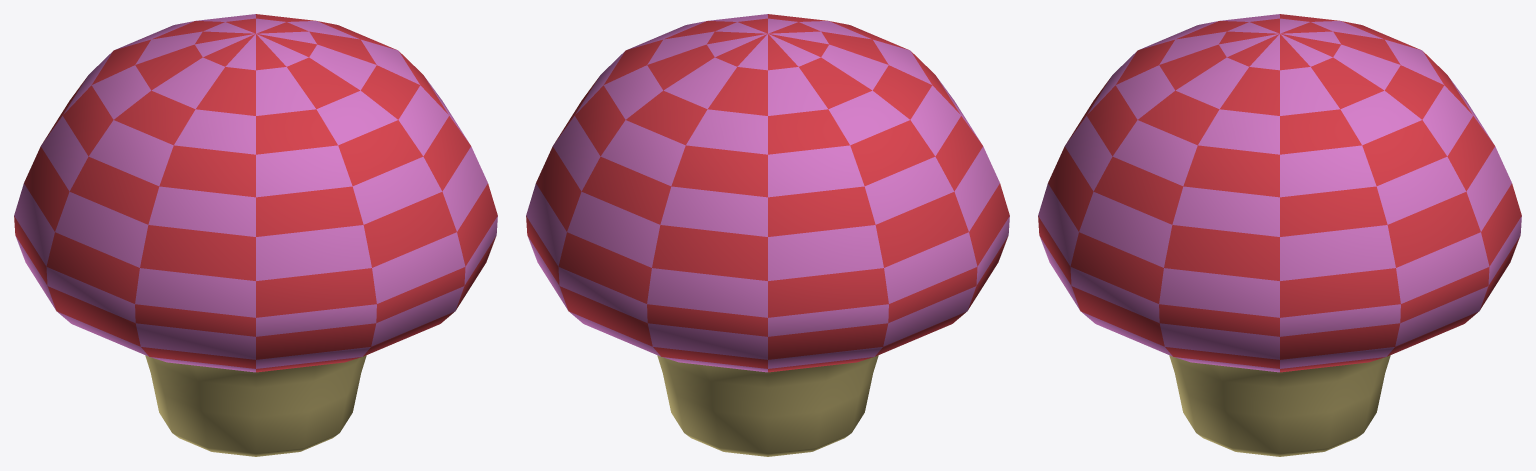
The model's file is Mushroom001.fbx.
3 views of the same model, side by side, from view 1: azimuth 30°, elevation 25°; view 2: azimuth 150°, elevation 25°; view 3: azimuth 270°, elevation 25° (orthographic).
Visible parts, largest first — view 1: Shroom; view 2: Shroom; view 3: Shroom.
Boxes of the visible parts, left/top/right/bottom form: Shroom: left=14, top=14, right=497, bottom=456; Shroom: left=526, top=14, right=1009, bottom=456; Shroom: left=1038, top=14, right=1521, bottom=456.
Bounding box in the file's own units: 199 × 176 × 199.
